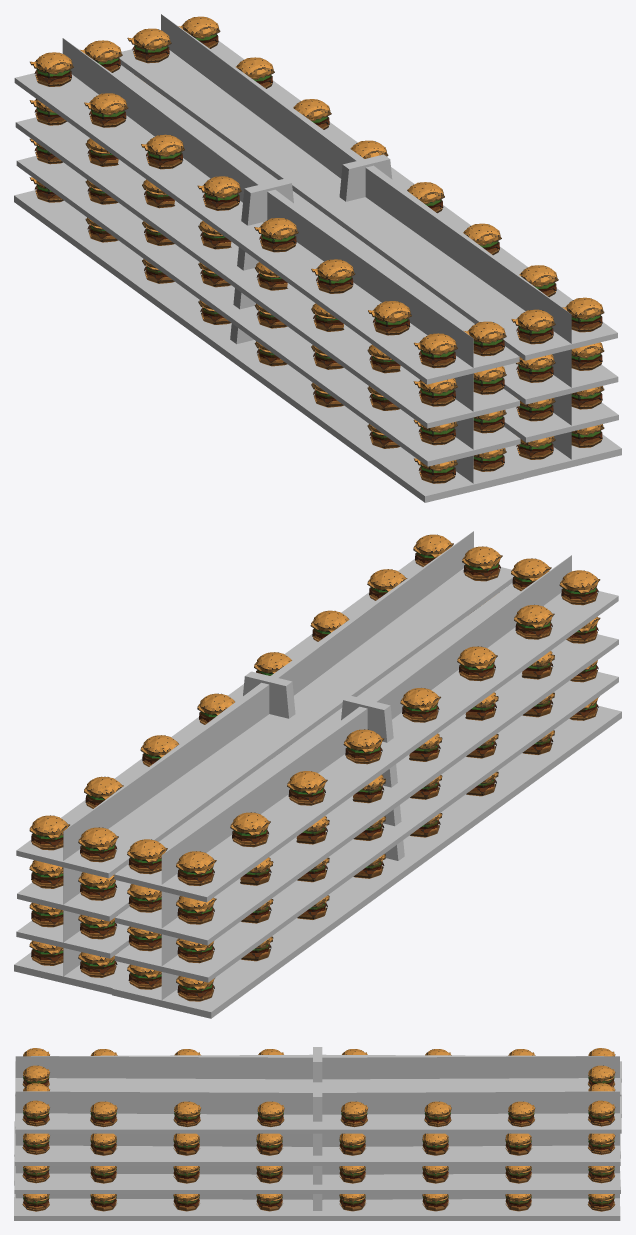
The model's file is EstanteComida5x2.fbx.
3 renders of one model, top to bottom at view 1: azimuth 30°, elevation 25°; view 2: azimuth 150°, elevation 25°; view 3: azimuth 270°, elevation 25°, orthographic. The views are drawn at different scales.
Parts seen in each view (by area): view 1: Estanteria.001, hamburguesa, hamburguesa.001, hamburguesa.003; view 2: Estanteria.001, hamburguesa, hamburguesa.001, hamburguesa.003; view 3: Estanteria.001, hamburguesa.002, hamburguesa, hamburguesa.001.
Part boxes in pixels (x1=…): Estanteria.001: x1=14, y1=14, x2=621, y2=502; hamburguesa: x1=29, y1=16, x2=604, y2=483; hamburguesa.001: x1=84, y1=57, x2=558, y2=335; hamburguesa.003: x1=85, y1=138, x2=400, y2=448; Estanteria.001: x1=14, y1=531, x2=621, y2=1018; hamburguesa: x1=29, y1=534, x2=600, y2=1001; hamburguesa.001: x1=84, y1=569, x2=554, y2=847; hamburguesa.003: x1=240, y1=651, x2=554, y2=961; Estanteria.001: x1=14, y1=1047, x2=621, y2=1220; hamburguesa.002: x1=90, y1=1133, x2=531, y2=1211; hamburguesa: x1=22, y1=1048, x2=615, y2=1211; hamburguesa.001: x1=90, y1=1049, x2=535, y2=1127.
Size of the model in its own units: 280 by 210 by 1018.
